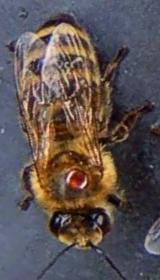varroa_mite: (52, 157, 96, 197)
